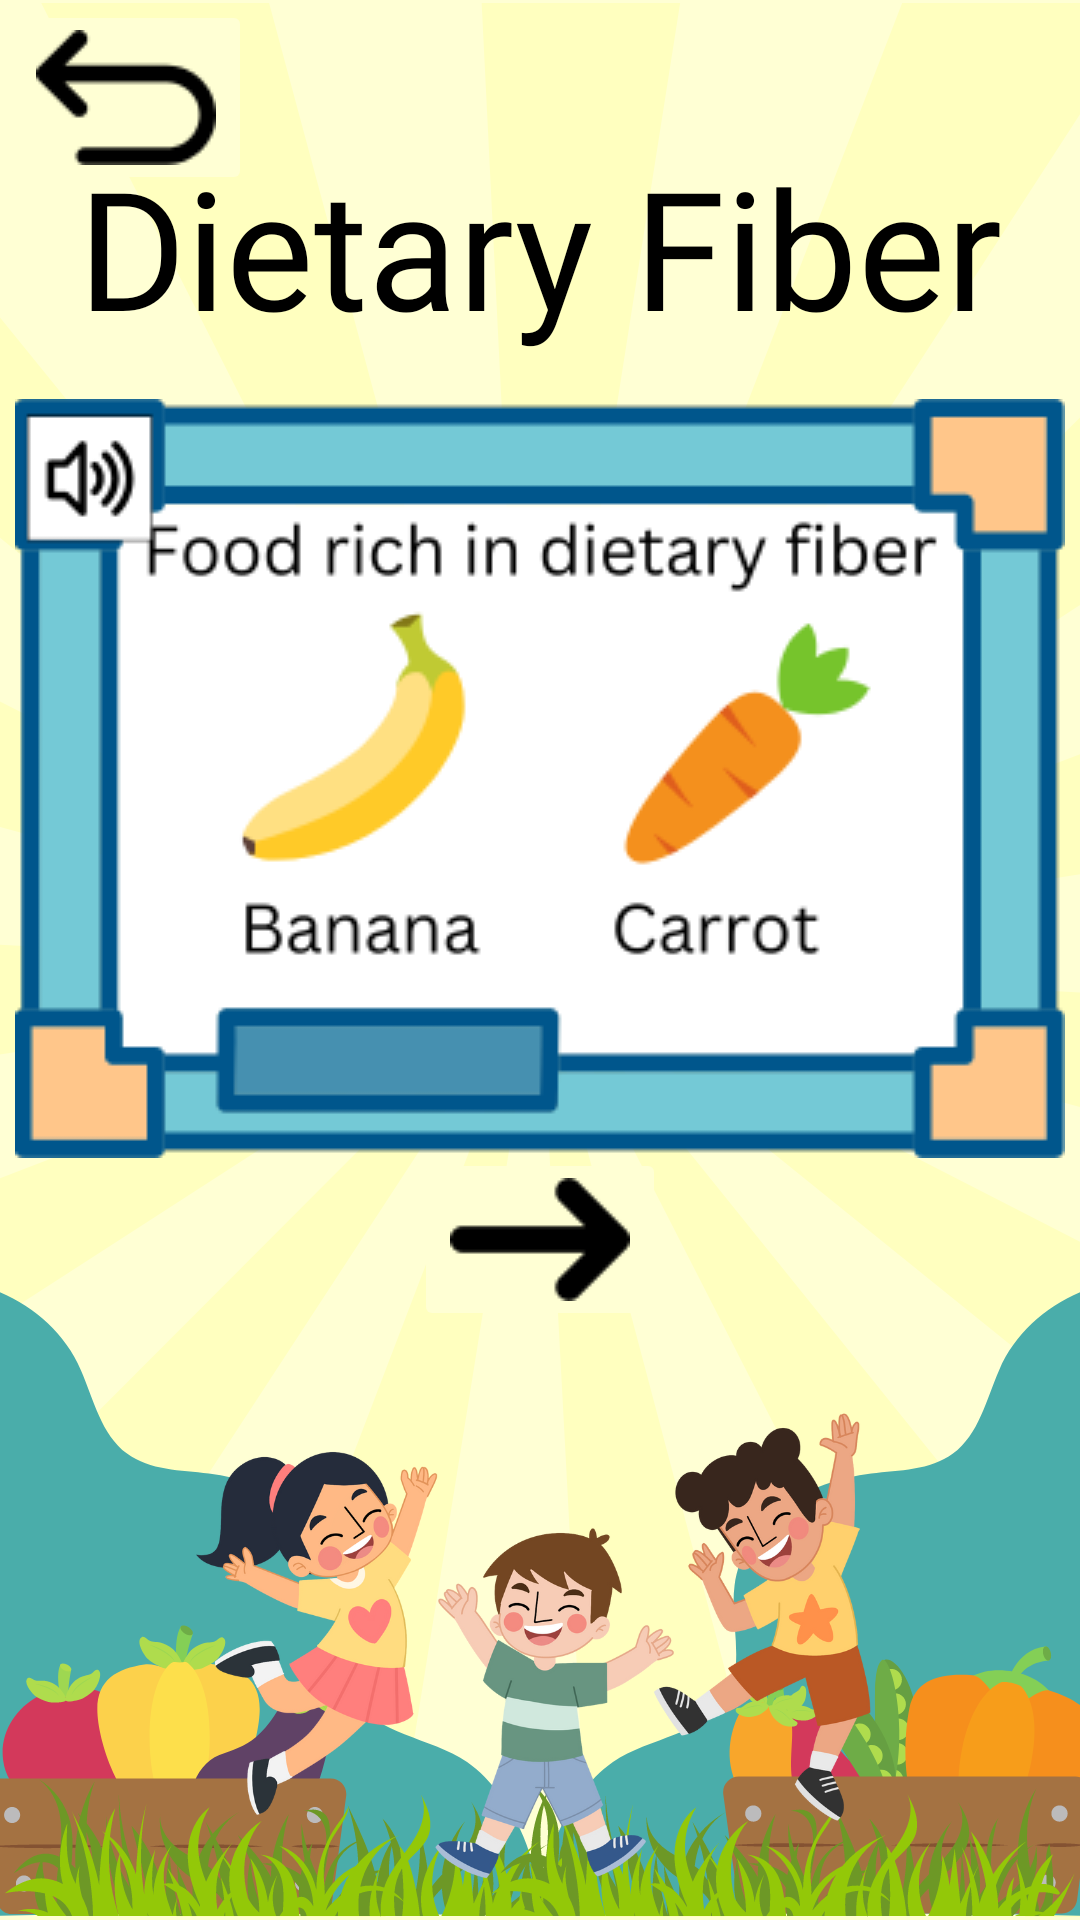

Icons on this 1080*1920 Android screen, each with the point to tap as (x=x, y=y):
Back: (x=126, y=97)
Next button: (x=540, y=1239)
